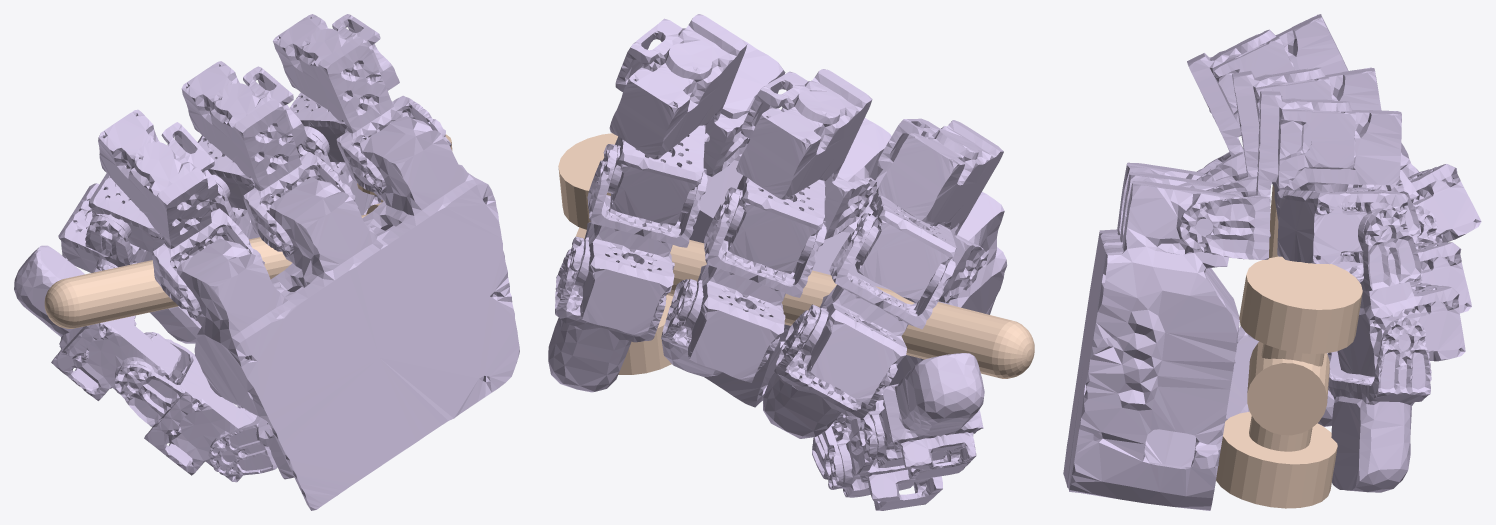
File: 8d3e3f5c5648b6-closed.glb
The picture shows the model from 3 angles, left to right: view 1: azimuth 30°, elevation 25°; view 2: azimuth 150°, elevation 25°; view 3: azimuth 270°, elevation 25°; orthographic projection. The views are drawn at different scales.
Visible parts, largest first — view 1: LEAP_hand, world; view 2: LEAP_hand, world; view 3: LEAP_hand, world.
Boxes of the visible parts, bbox=[...] form: LEAP_hand: bbox=[14, 14, 519, 510]; world: bbox=[44, 134, 452, 328]; LEAP_hand: bbox=[548, 14, 1007, 510]; world: bbox=[558, 133, 1034, 378]; LEAP_hand: bbox=[1063, 14, 1481, 510]; world: bbox=[1216, 185, 1362, 508].
Size of the model in its own units: 0.1795 by 0.1674 by 0.135.
